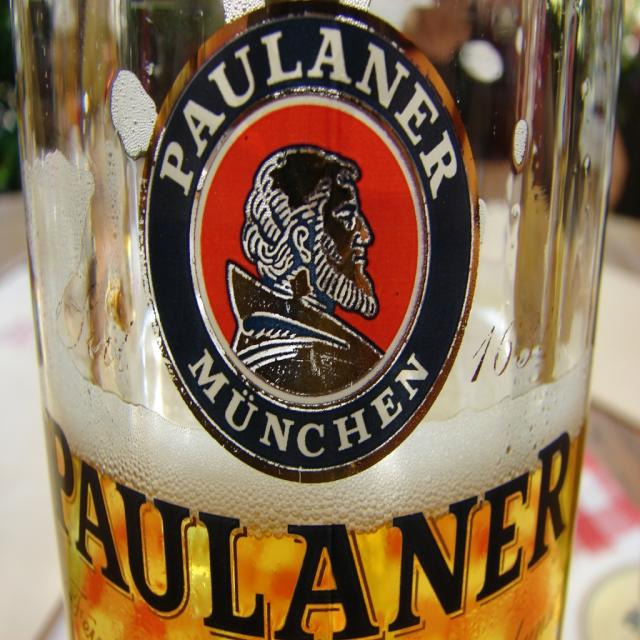paulaner: (136, 2, 482, 486)
